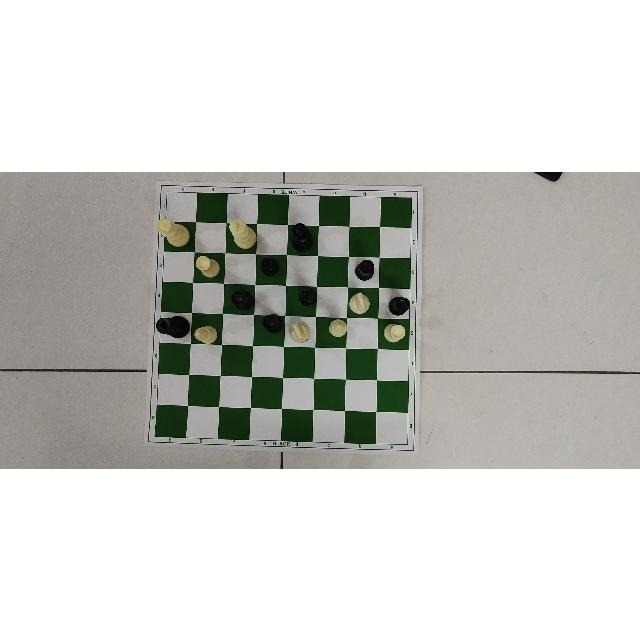black-bishop: (258, 255, 279, 275), (299, 287, 317, 305)
black-king: (156, 315, 190, 337)
black-queen: (291, 221, 315, 251)
black-rook: (230, 289, 253, 309), (388, 296, 410, 316), (355, 258, 375, 280), (262, 312, 284, 331)
white-bishop: (194, 324, 218, 343), (328, 317, 348, 336)
white-king: (229, 217, 257, 248)
white-knight: (349, 290, 371, 313), (290, 320, 312, 342)
white-queen: (156, 216, 190, 245)
white-rook: (195, 254, 220, 277), (383, 322, 406, 342)
